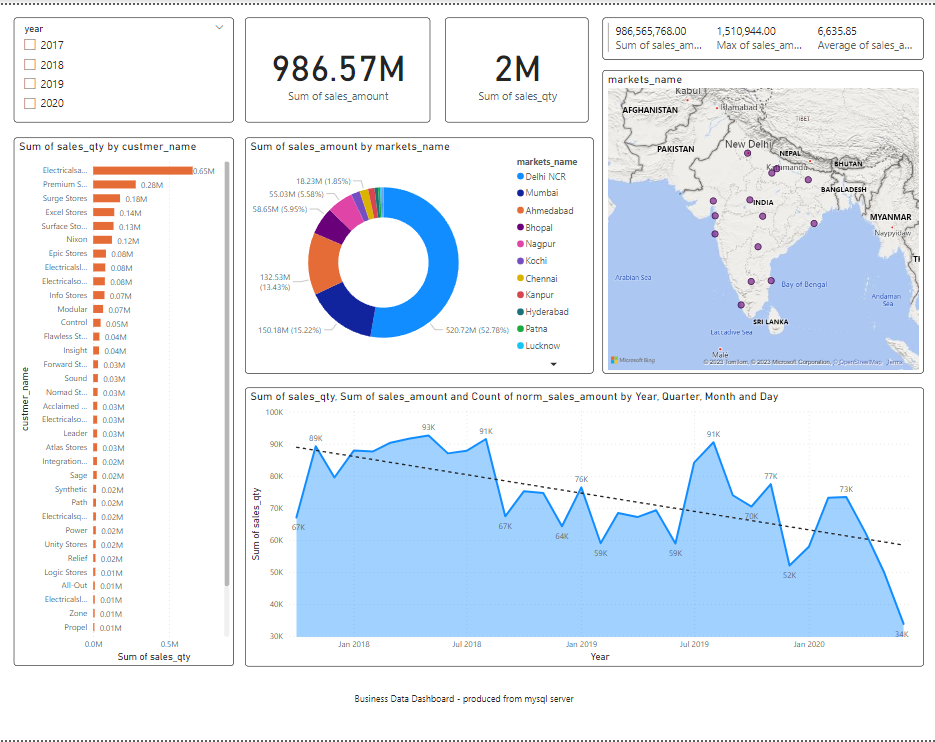

The dashboard page shown, as its layout file describes it:
{"tool":"powerbi","page":{"name":"Page 1","canvas":[1400,1100],"ordinal":0},"visuals":[{"type":"card","fields":{"Values":["Sum(sales transactions.sales_amount)"]},"box":[366,18.7,276.4,156.9],"z":0},{"type":"multiRowCard","fields":{"Values":["Sum(sales transactions.sales_amount)","Max(sales transactions.sales_amount)","Avg(sales transactions.sales_amount)"]},"box":[900.2,18.7,480,63.5],"z":1000},{"type":"slicer","fields":{"Values":["sales date.year"]},"box":[20.5,18.7,328.7,156.9],"z":2000},{"type":"card","fields":{"Values":["Sum(sales transactions.sales_qty)"]},"box":[664.9,18.7,214.8,156.9],"z":3000},{"type":"barChart","fields":{"Category":["sales customers.custmer_name"],"Y":["Sum(sales transactions.sales_qty)"]},"box":[20.5,198,328.7,790],"z":4000},{"type":"donutChart","fields":{"Category":["sales markets.markets_name"],"Y":["Sum(sales transactions.sales_amount)"]},"box":[366,198,521.1,353],"z":5000},{"type":"areaChart","fields":{"Category":["sales date.cy_date.Variation.Date Hierarchy.Year","sales date.cy_date.Variation.Date Hierarchy.Quarter","sales date.cy_date.Variation.Date Hierarchy.Month","sales date.cy_date.Variation.Date Hierarchy.Day"],"Y":["Sum(sales transactions.sales_qty)"]},"box":[366,571.5,1014.1,416.5],"z":6000},{"type":"textbox","box":[524.8,1021.6,349.2,54.2],"z":7000},{"type":"map","fields":{"Category":["sales markets.markets_name"]},"box":[900.2,97.1,480,453.8],"z":8000}]}

Visuals, with their boxes in screenshot pixels (x1, y1, x2, y2), scaled from the page's 1400x1100 canvas onto the 935x742 screenshot:
card - Sum(sales transactions.sales_amount): x1=244, y1=13, x2=429, y2=118
multiRowCard - Sum(sales transactions.sales_amount) x Max(sales transactions.sales_amount): x1=601, y1=13, x2=922, y2=55
slicer - sales date.year: x1=14, y1=13, x2=233, y2=118
card - Sum(sales transactions.sales_qty): x1=444, y1=13, x2=588, y2=118
barChart - sales customers.custmer_name x Sum(sales transactions.sales_qty): x1=14, y1=134, x2=233, y2=666
donutChart - sales markets.markets_name x Sum(sales transactions.sales_amount): x1=244, y1=134, x2=592, y2=372
areaChart - sales date.cy_date.Variation.Date Hierarchy.Year x sales date.cy_date.Variation.Date Hierarchy.Quarter: x1=244, y1=386, x2=922, y2=666
textbox: x1=350, y1=689, x2=584, y2=726
map - sales markets.markets_name: x1=601, y1=65, x2=922, y2=372
